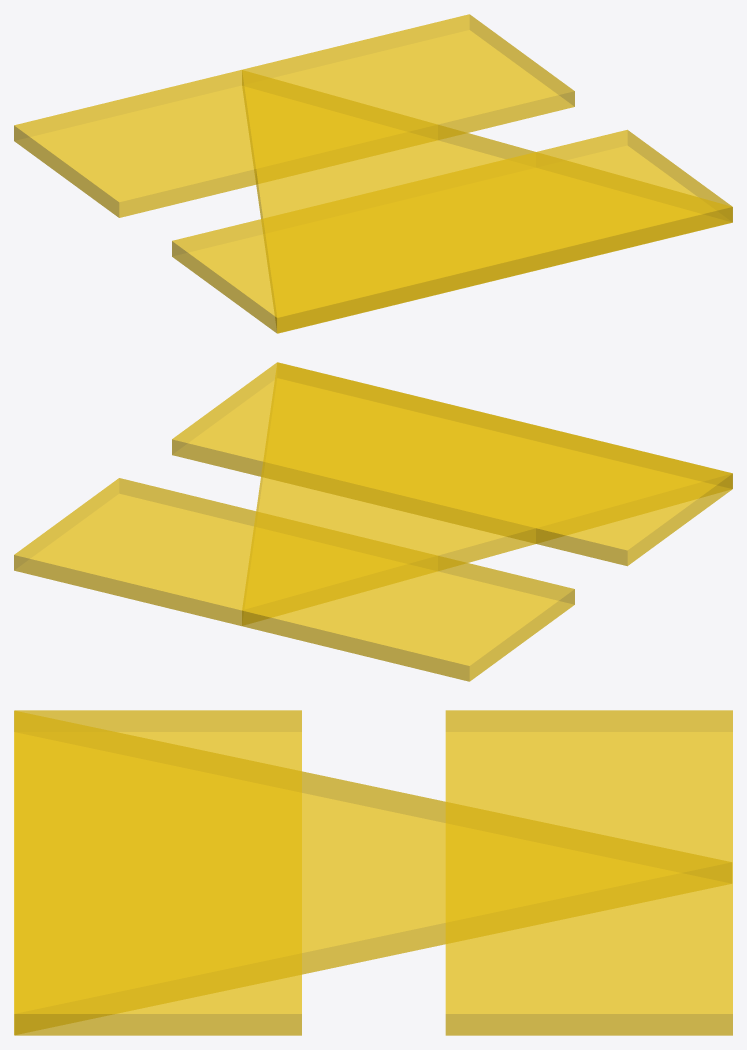
Rendered from helpers.glb.
The picture shows the model from 3 angles, top to bottom: view 1: azimuth 30°, elevation 25°; view 2: azimuth 150°, elevation 25°; view 3: azimuth 270°, elevation 25°; orthographic projection. The views are drawn at different scales.
Visible parts, largest first — view 1: Brake, Speed; view 2: Brake, Speed; view 3: Brake, Speed.
Part boxes in pixels (box(x1,y1,x2,y2)): Brake: box(14, 14, 732, 333); Speed: box(242, 70, 732, 333); Brake: box(14, 362, 732, 681); Speed: box(242, 362, 732, 625); Brake: box(14, 710, 732, 1035); Speed: box(14, 710, 731, 1035).
Size of the model in its own units: 1 by 0.033 by 1.
